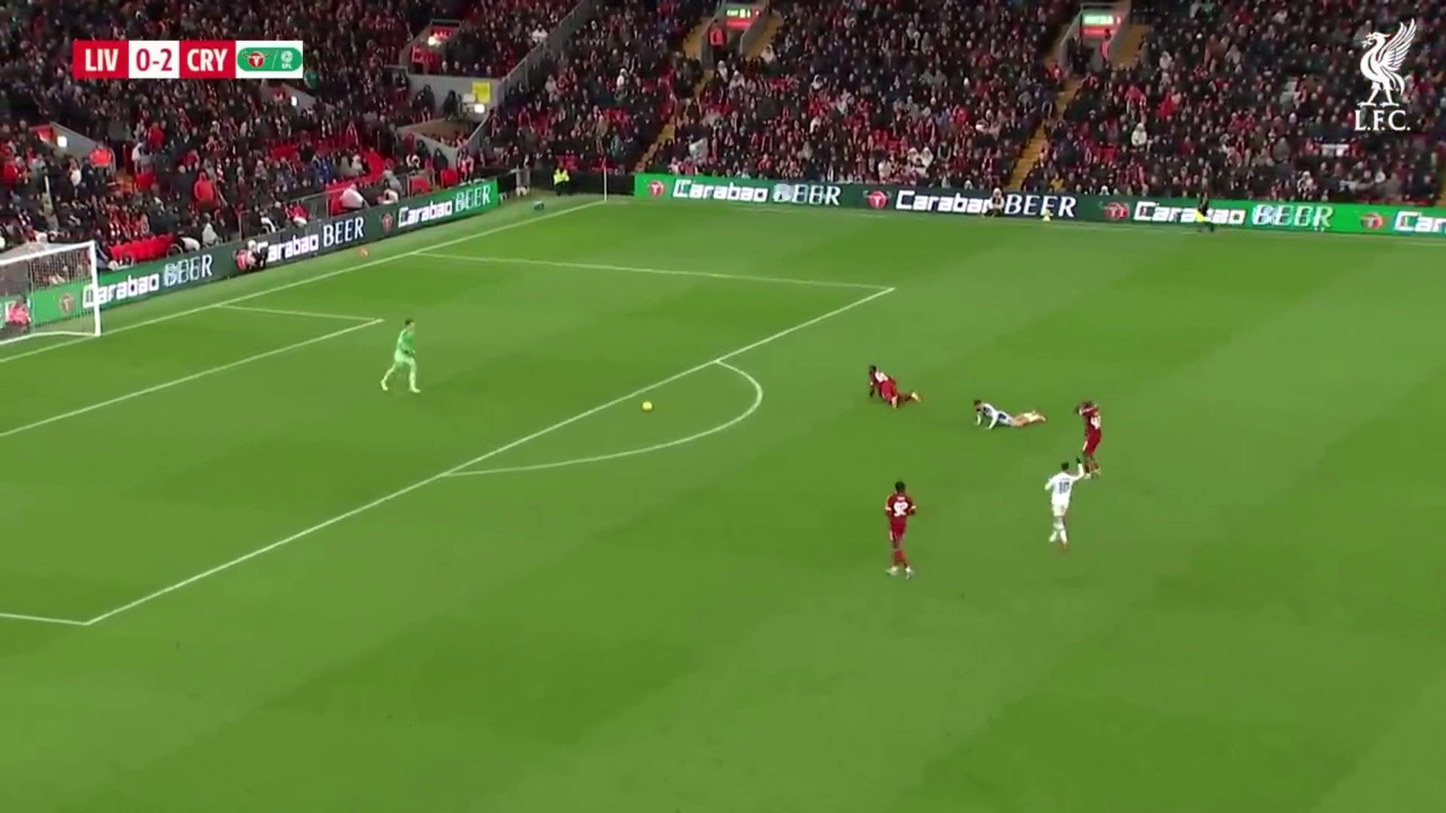player: (1044, 460, 1084, 551), (380, 316, 421, 395), (884, 480, 917, 578), (868, 366, 920, 408), (1077, 400, 1104, 480), (868, 365, 895, 407)
